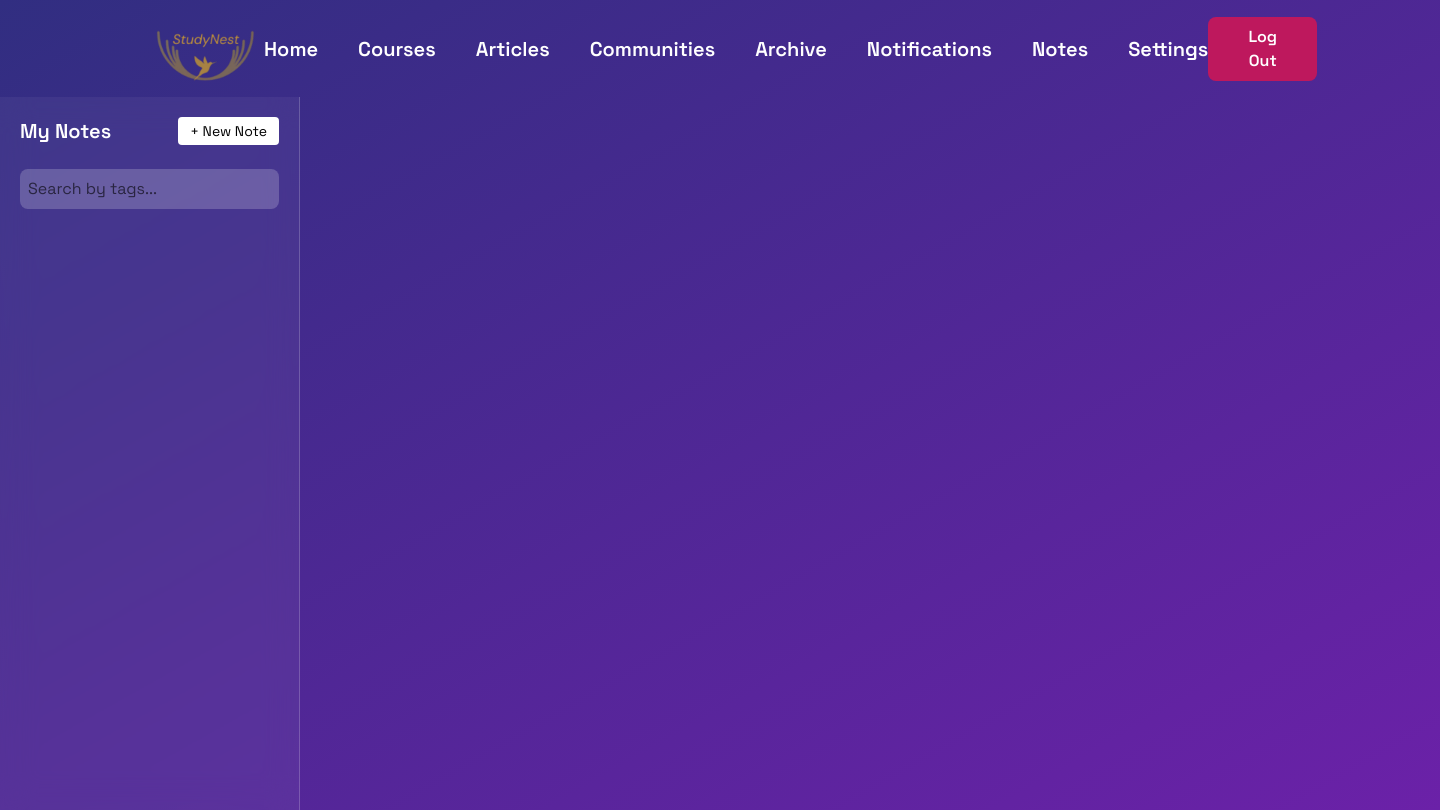
Test: NotesPage › adds a tag when pressing Enter
Click the button "+ New Note" at (229, 131), box [178,117,279,145]
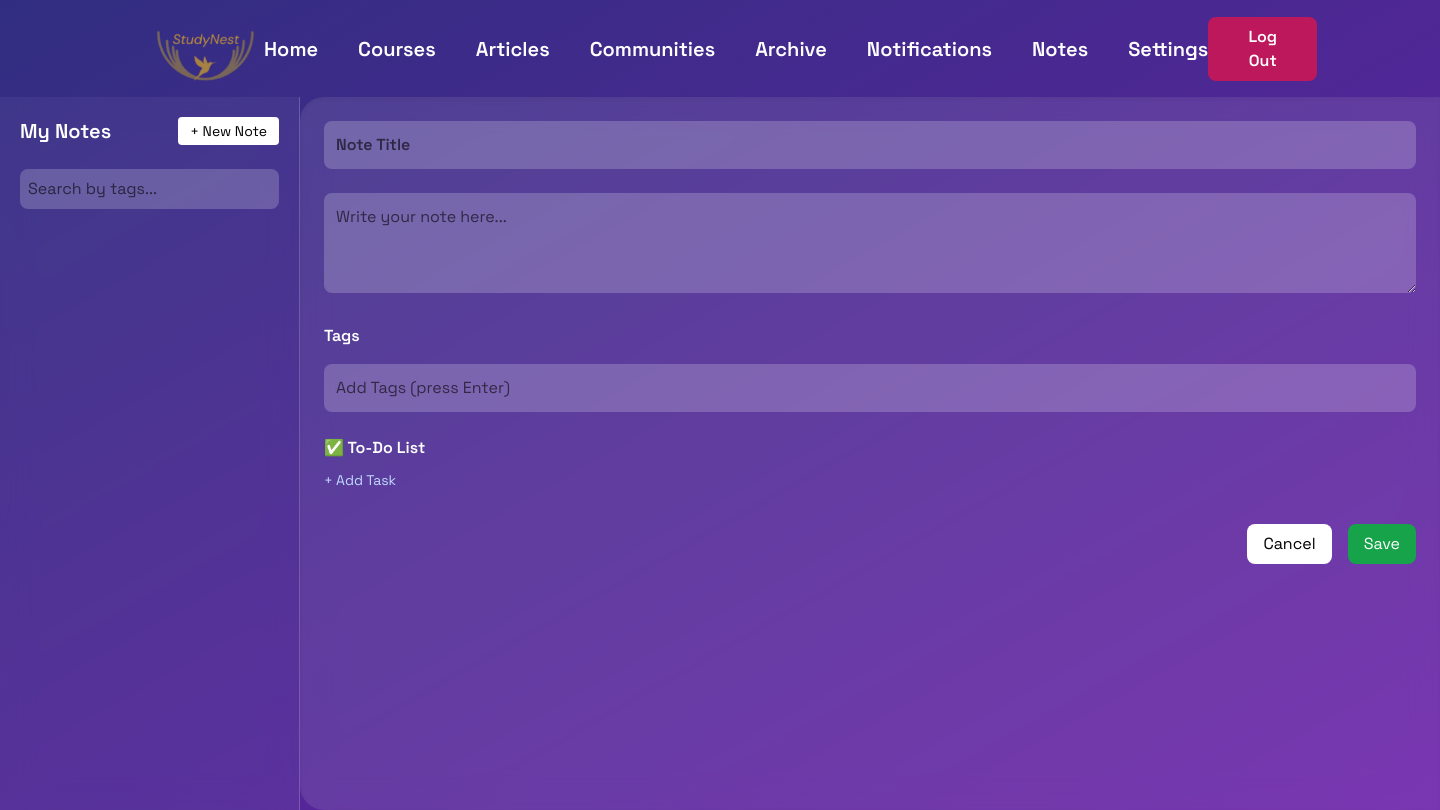
Type "important" into the field with placeholder "Add Tags (press Enter)" at (870, 388), box [324,364,1416,412]
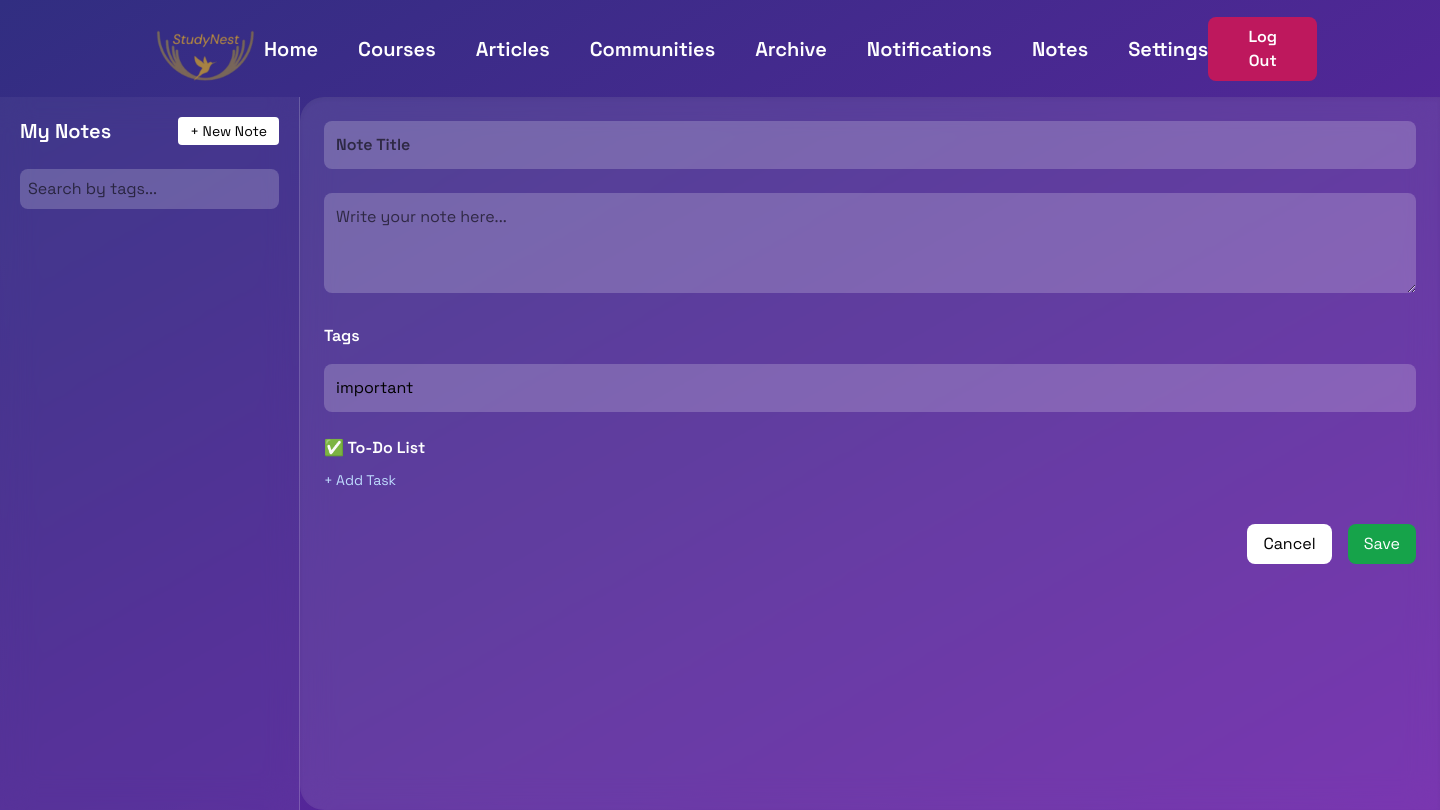
Press Enter in the field with placeholder "Add Tags (press Enter)", box [324,364,1416,412]
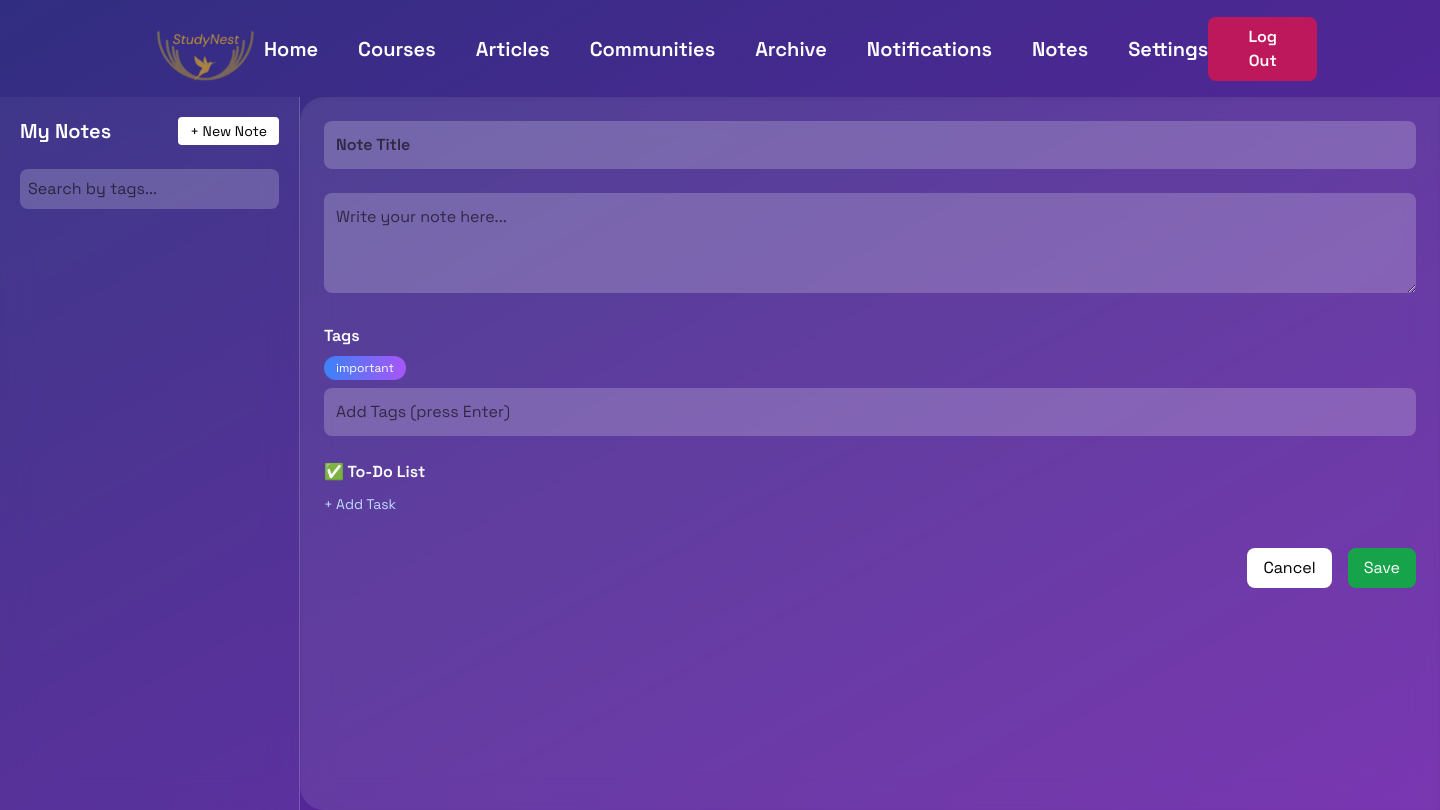
Expected: the text "important" is shown, [324,356,406,380]
